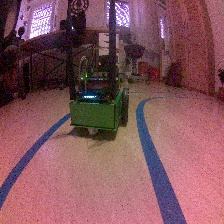rob: (69, 54, 130, 136)
